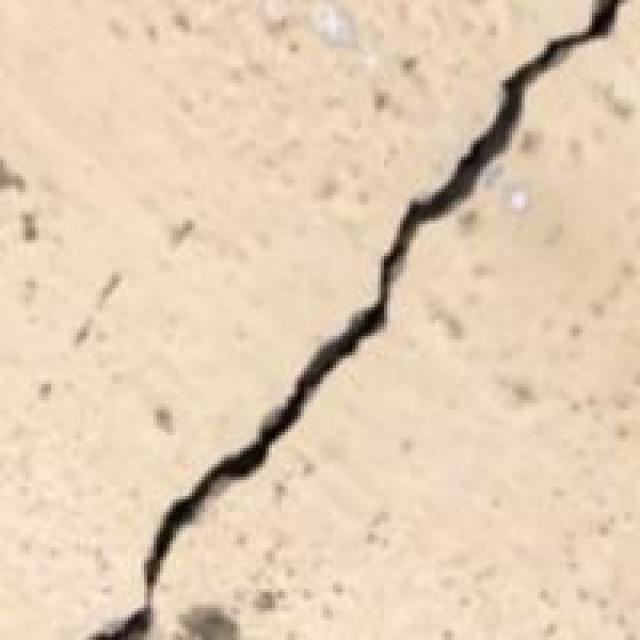Crack: (106, 0, 636, 637)
